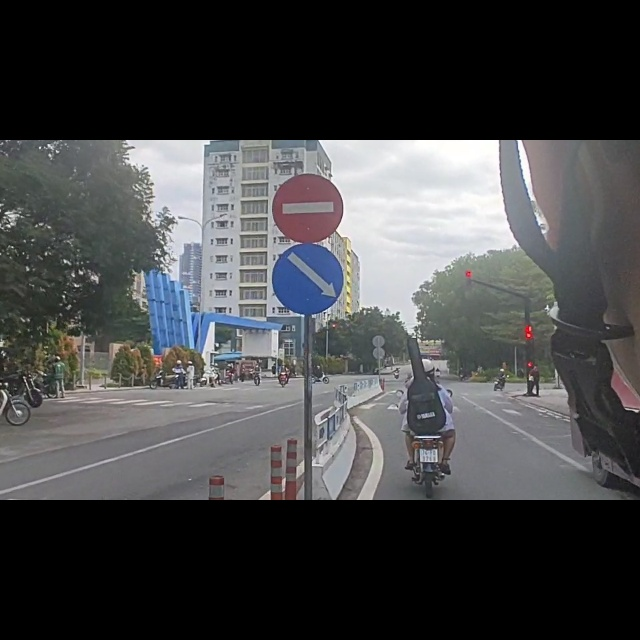bien_cam: (270, 181, 353, 315), (270, 58, 347, 186)
